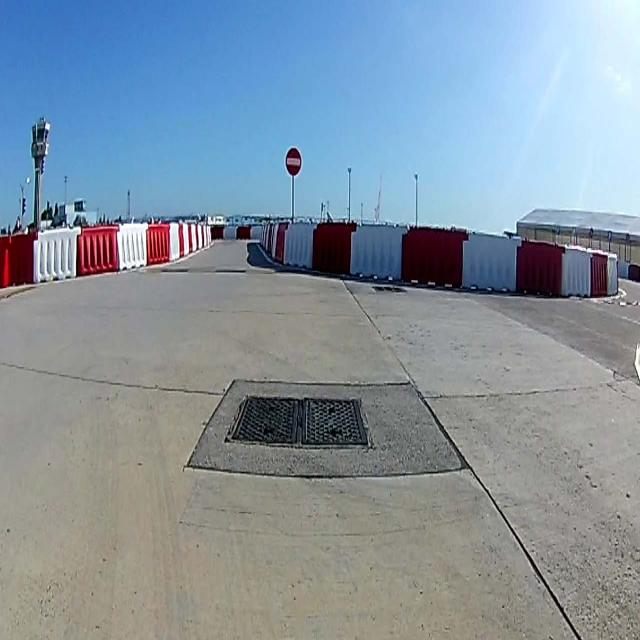girisyok: (285, 148, 303, 175)
